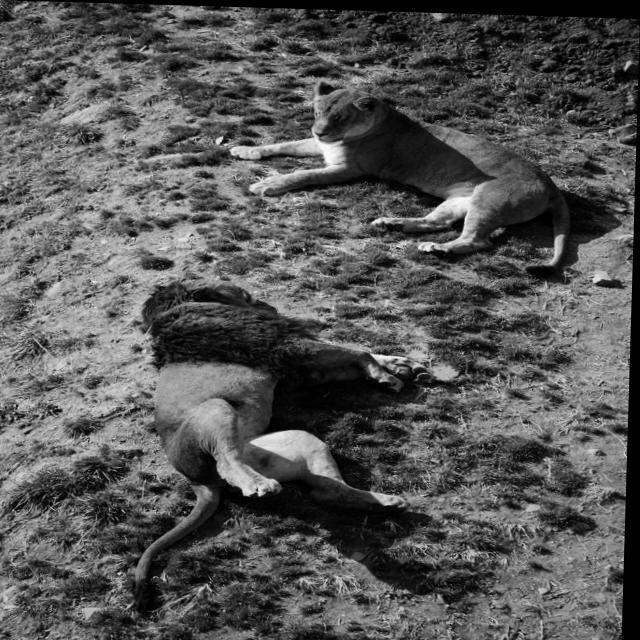Lion: (88, 266, 435, 573), (236, 51, 595, 253)
